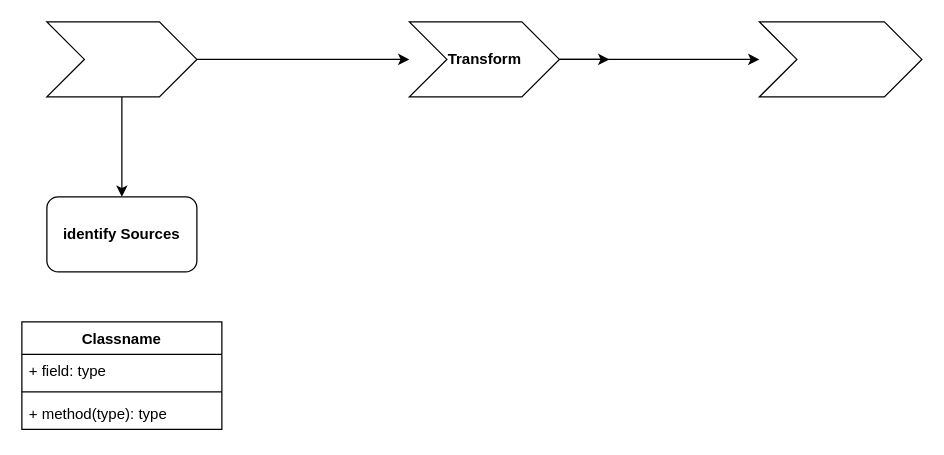
Image size: 944x455. Some labels were removed from this diagram. The centre of each missing label's shape, as x and y in pixels:
Extract: pixel 121 59
Load: pixel 840 59
